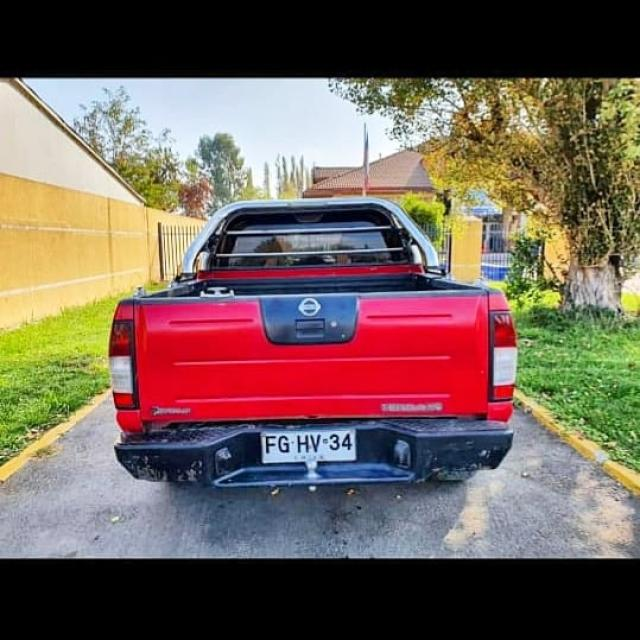patente: (258, 426, 357, 464)
